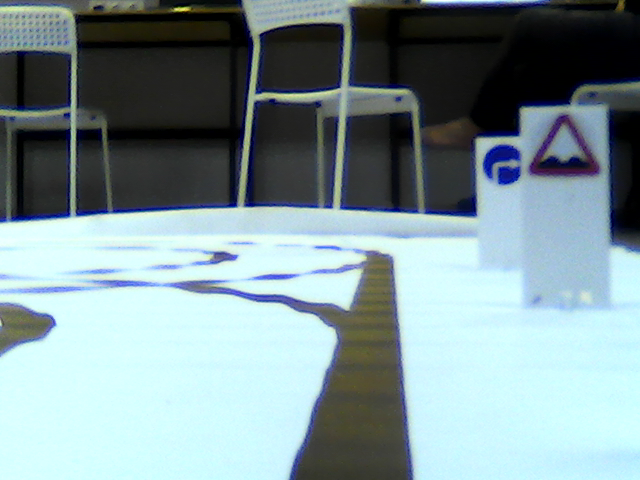Nerov: (529, 114, 603, 180)
Right: (480, 145, 523, 187)
